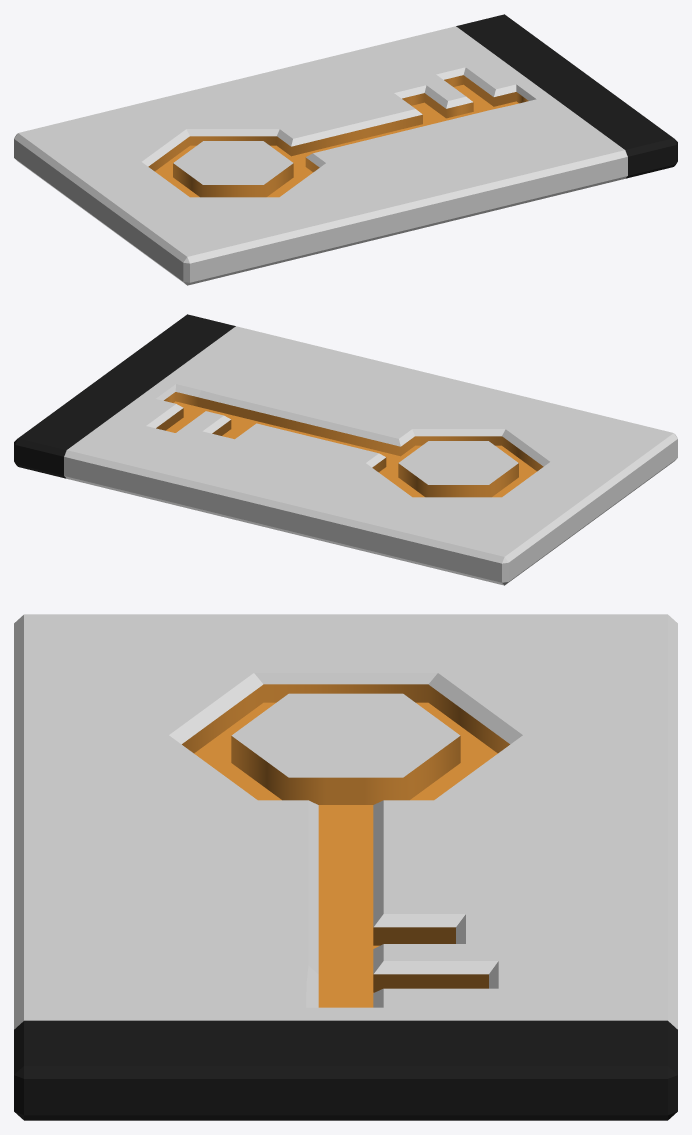
Rendered from Keycard.glb.
The picture shows the model from 3 angles, top to bottom: view 1: azimuth 30°, elevation 25°; view 2: azimuth 150°, elevation 25°; view 3: azimuth 270°, elevation 25°; orthographic projection. The views are drawn at different scales.
Visible parts, largest first — view 1: Keycard; view 2: Keycard; view 3: Keycard.
Boxes of the visible parts, box(x1,y1,x2,y2) form: Keycard: box(14, 14, 677, 285); Keycard: box(14, 314, 677, 585); Keycard: box(14, 614, 677, 1120).
Bounding box in the file's own units: 5.41 × 0.3 × 3.3.
